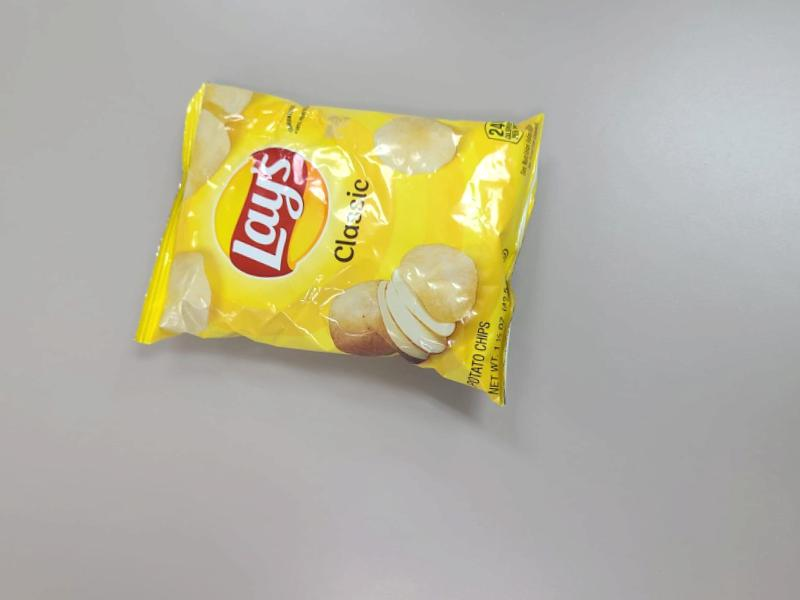lays: (109, 81, 535, 402)
